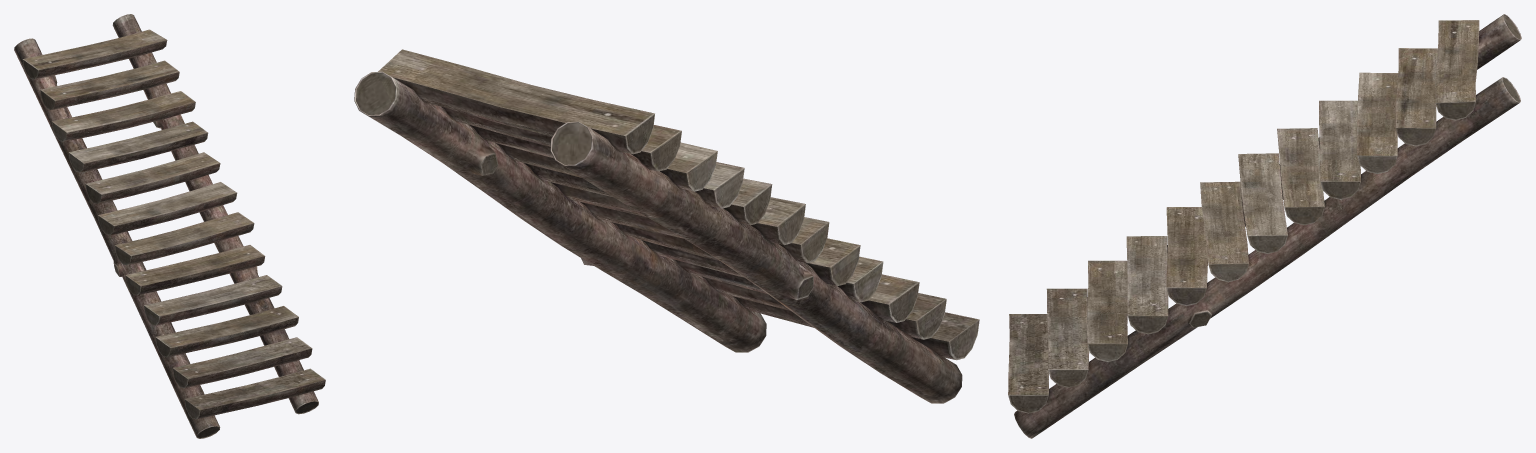
Rendered from Log_Stairs_Long.fbx.
3 renders of one model, left to right at view 1: azimuth 30°, elevation 25°; view 2: azimuth 150°, elevation 25°; view 3: azimuth 270°, elevation 25°, orthographic. The views are drawn at different scales.
Visible parts, largest first — view 1: LogStaris_01_GEO; view 2: LogStaris_01_GEO; view 3: LogStaris_01_GEO.
Boxes of the visible parts, x1,y1,x2,y2 form: LogStaris_01_GEO: (14, 14, 325, 438); LogStaris_01_GEO: (354, 49, 979, 403); LogStaris_01_GEO: (1008, 14, 1521, 438).
Bounding box in the file's own units: 110 × 217 × 282.
